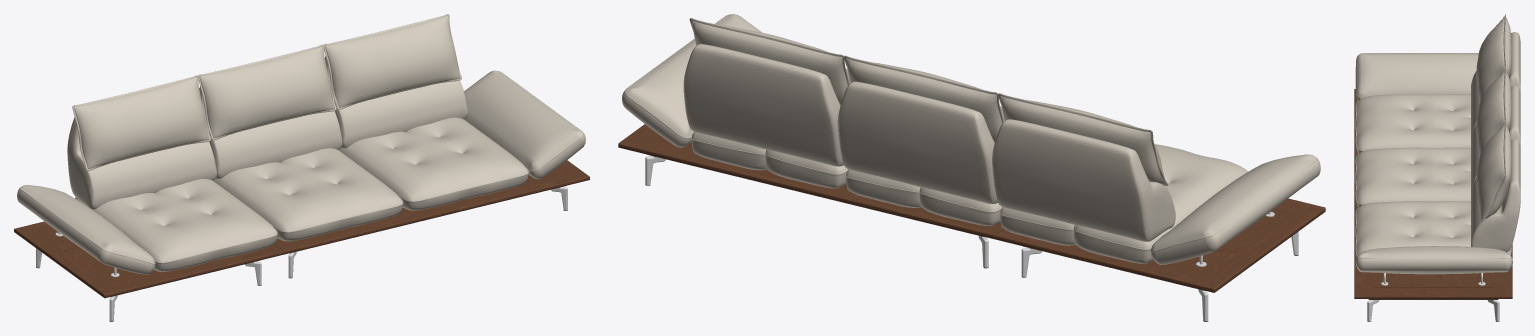
3 renders of one model, left to right at view 1: azimuth 30°, elevation 25°; view 2: azimuth 150°, elevation 25°; view 3: azimuth 270°, elevation 25°, orthographic. The views are drawn at different scales.
Parts seen in each view (by area): view 1: 3247799; view 2: 3247799; view 3: 3247799.
Boxes of the visible parts, x1,y1,x2,y2 form: 3247799: (14,14,589,321); 3247799: (618,14,1325,321); 3247799: (1354,14,1520,321).
Size of the model in its own units: 3.25 by 0.95 by 1.1.
Materials: 1 (1 with a texture image).
